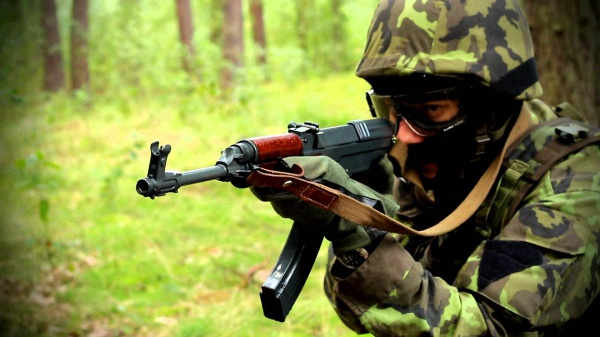ak47: (139, 119, 391, 320)
